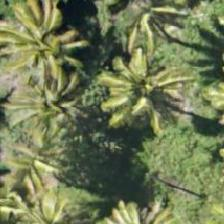coconut_tree: (100, 49, 190, 139), (0, 61, 87, 151), (0, 0, 88, 83), (0, 117, 74, 207), (106, 0, 196, 53)
